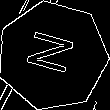N_E: (23, 30, 83, 82)
